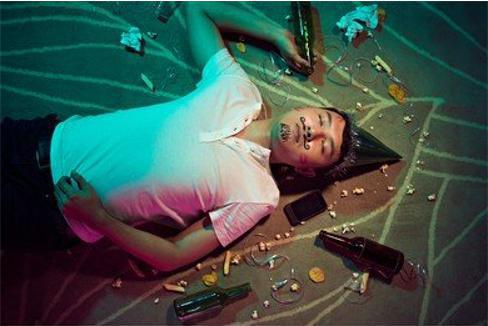Drunk: (275, 105, 348, 167)
